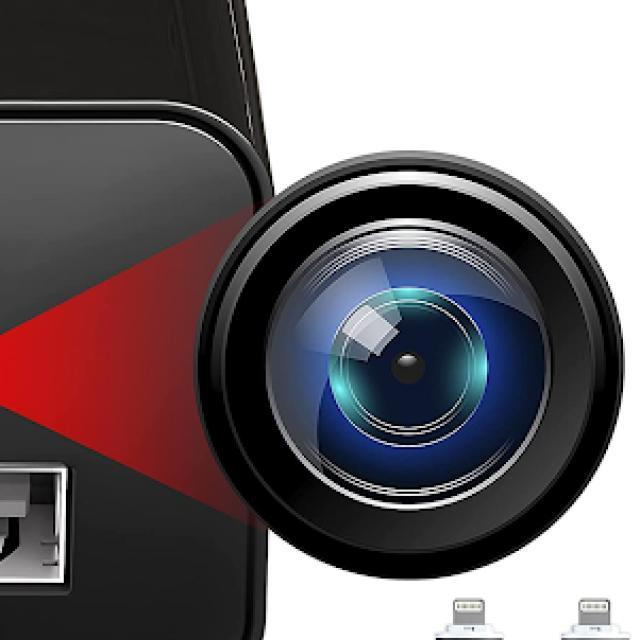hidden camera: (196, 201, 615, 526)
